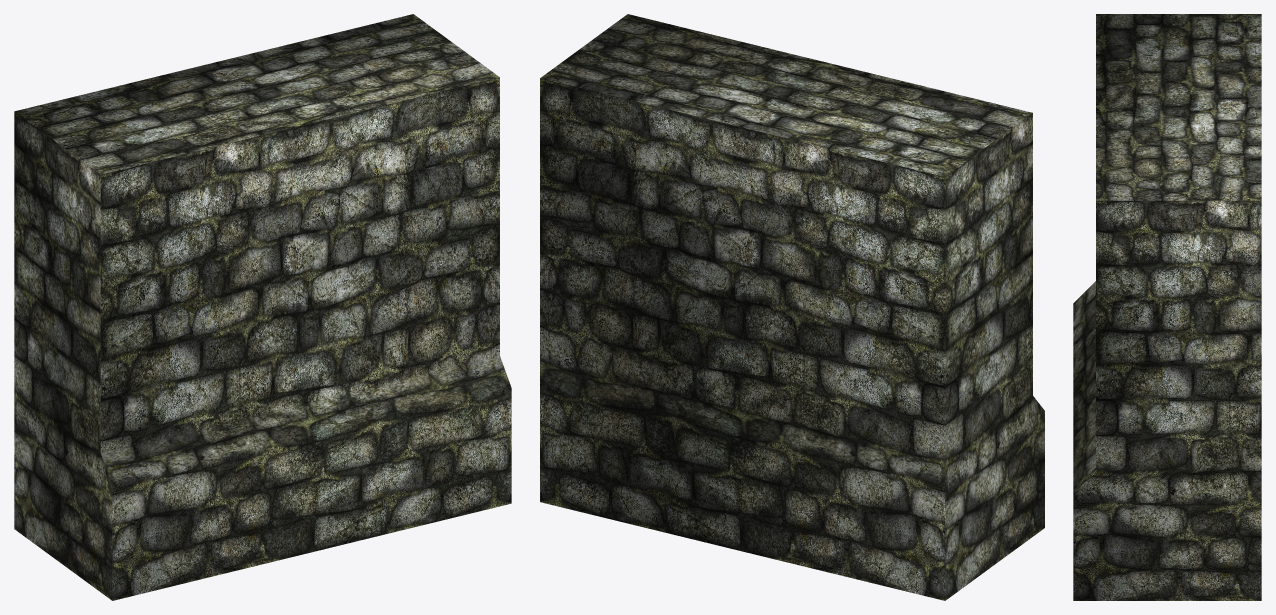
The model's file is Wall.obj.
The picture shows the model from 3 angles, left to right: view 1: azimuth 30°, elevation 25°; view 2: azimuth 150°, elevation 25°; view 3: azimuth 270°, elevation 25°; orthographic projection. The views are drawn at different scales.
Visible parts, largest first — view 1: Cube_001; view 2: Cube_001; view 3: Cube_001.
Boxes of the visible parts, bbox=[...] form: Cube_001: bbox=[14, 14, 511, 600]; Cube_001: bbox=[540, 14, 1044, 600]; Cube_001: bbox=[1073, 14, 1261, 600].
Size of the model in its own units: 5120 by 5120 by 2181.
1 material, 1 textured.
